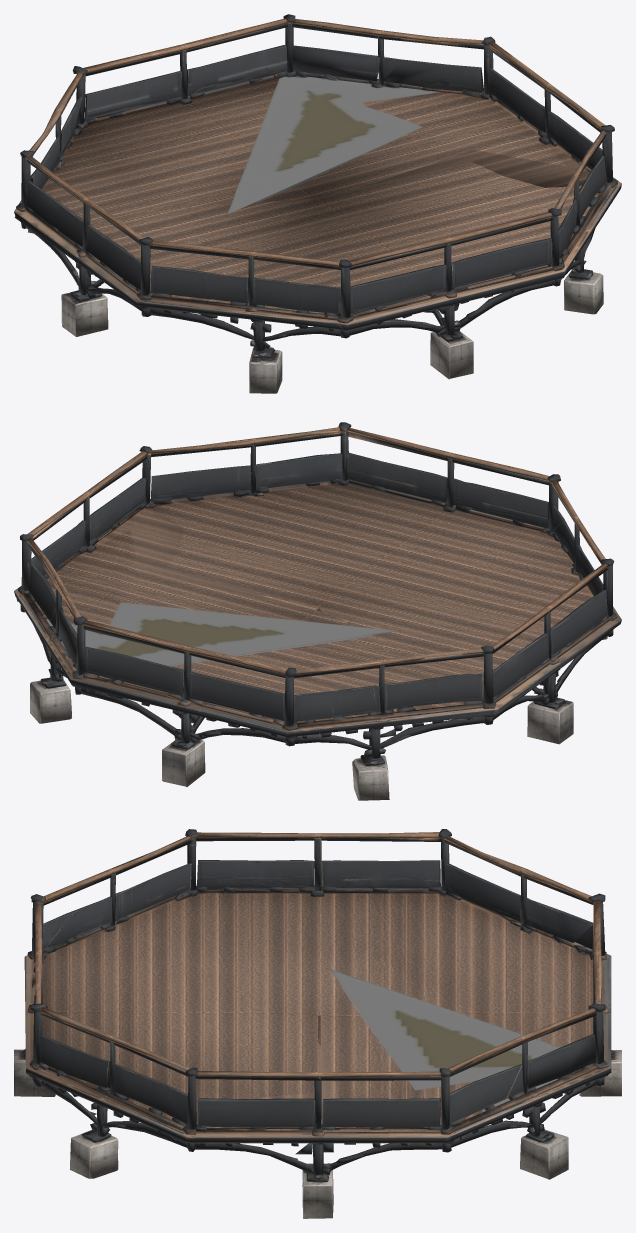
File: midori_lakeside_viewing_deck_v1.glb
3 views of the same model, one above another, from view 1: azimuth 30°, elevation 25°; view 2: azimuth 150°, elevation 25°; view 3: azimuth 270°, elevation 25° (orthographic). The views are drawn at different scales.
Bounding box in the file's own units: 1 × 0.2539 × 1.
1 material, 1 textured.
